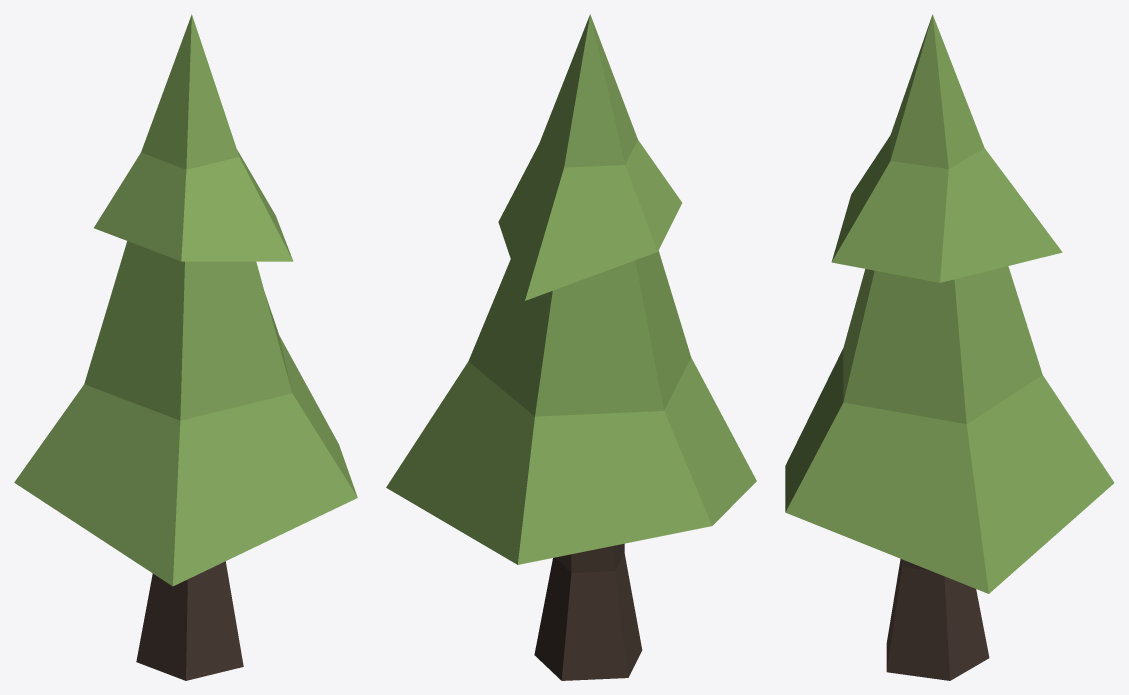
File: lightgreen_conetree2.fbx
3 renders of one model, left to right at view 1: azimuth 30°, elevation 25°; view 2: azimuth 150°, elevation 25°; view 3: azimuth 270°, elevation 25°, orthographic.
Parts seen in each view (by area): view 1: lightgreen_conetree2; view 2: lightgreen_conetree2; view 3: lightgreen_conetree2.
Boxes of the visible parts, x1,y1,x2,y2 form: lightgreen_conetree2: (14,14,357,680); lightgreen_conetree2: (386,14,756,680); lightgreen_conetree2: (785,14,1114,680).
Bounding box in the file's own units: 447 × 845 × 392.
